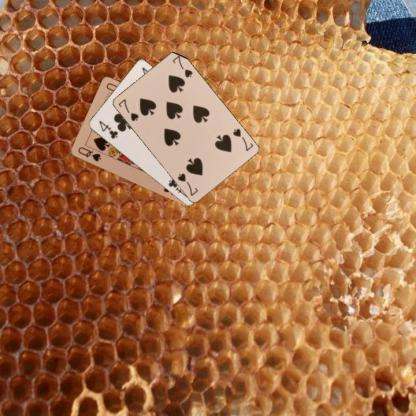4c: (96, 118, 119, 140)
7s: (115, 96, 140, 122), (230, 126, 254, 152)
Qs: (75, 144, 102, 163)
